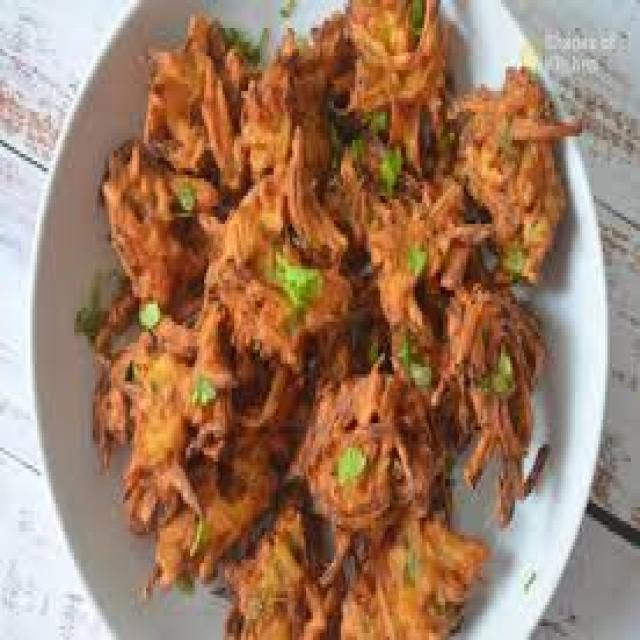BAJI: (82, 0, 580, 637)
